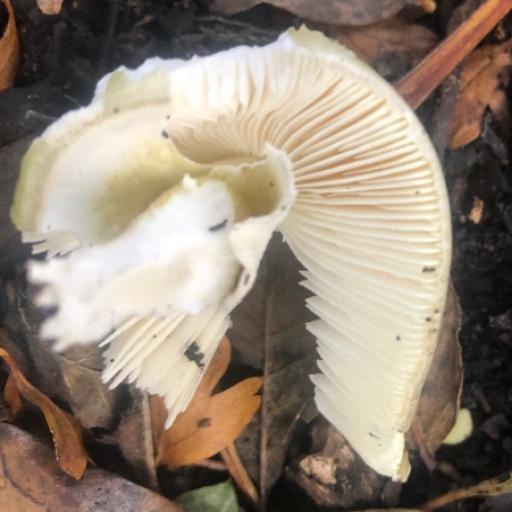mushroom: (0, 0, 490, 471)
